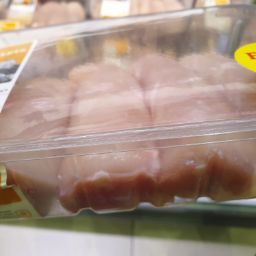Chicken breast: (140, 34, 256, 193), (41, 45, 148, 200), (19, 63, 87, 211), (94, 44, 154, 195)
